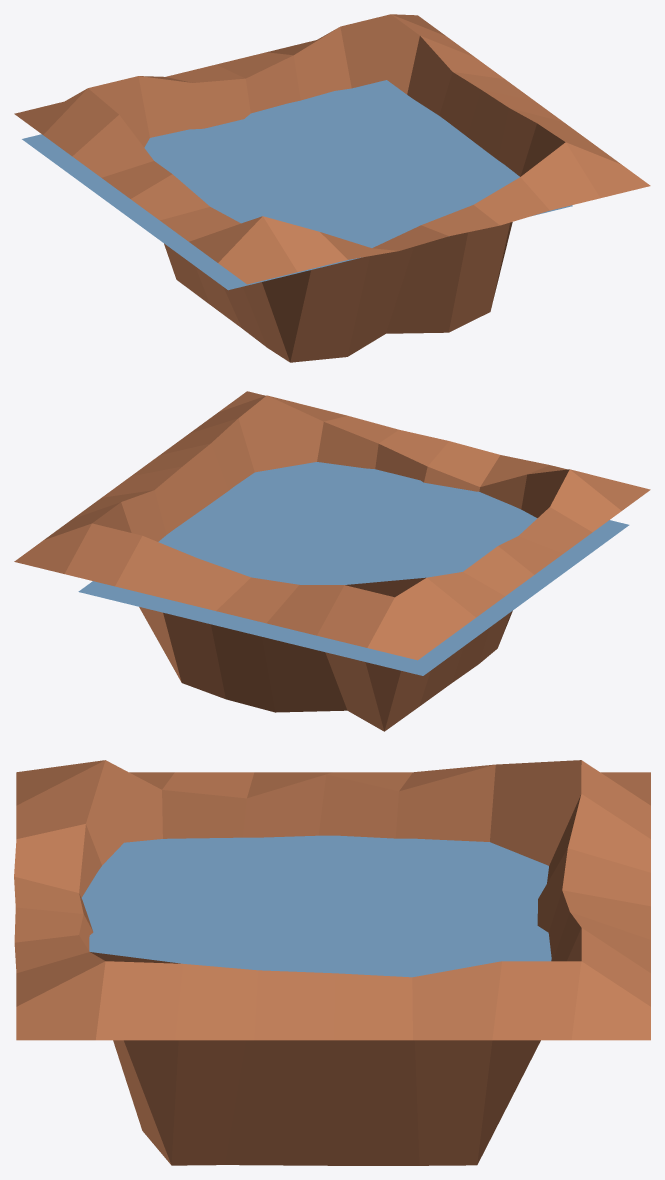
File: PIT_Water_1.fbx
3 renders of one model, top to bottom at view 1: azimuth 30°, elevation 25°; view 2: azimuth 150°, elevation 25°; view 3: azimuth 270°, elevation 25°, orthographic. The views are drawn at different scales.
Visible parts, largest first — view 1: Plane.001; view 2: Plane.001; view 3: Plane.001.
Boxes of the visible parts, left/top/right/bottom form: Plane.001: left=14, top=14, right=650, bottom=362; Plane.001: left=14, top=391, right=650, bottom=731; Plane.001: left=14, top=760, right=650, bottom=1165.
Bounding box in the file's own units: 150 × 62.16 × 151.
